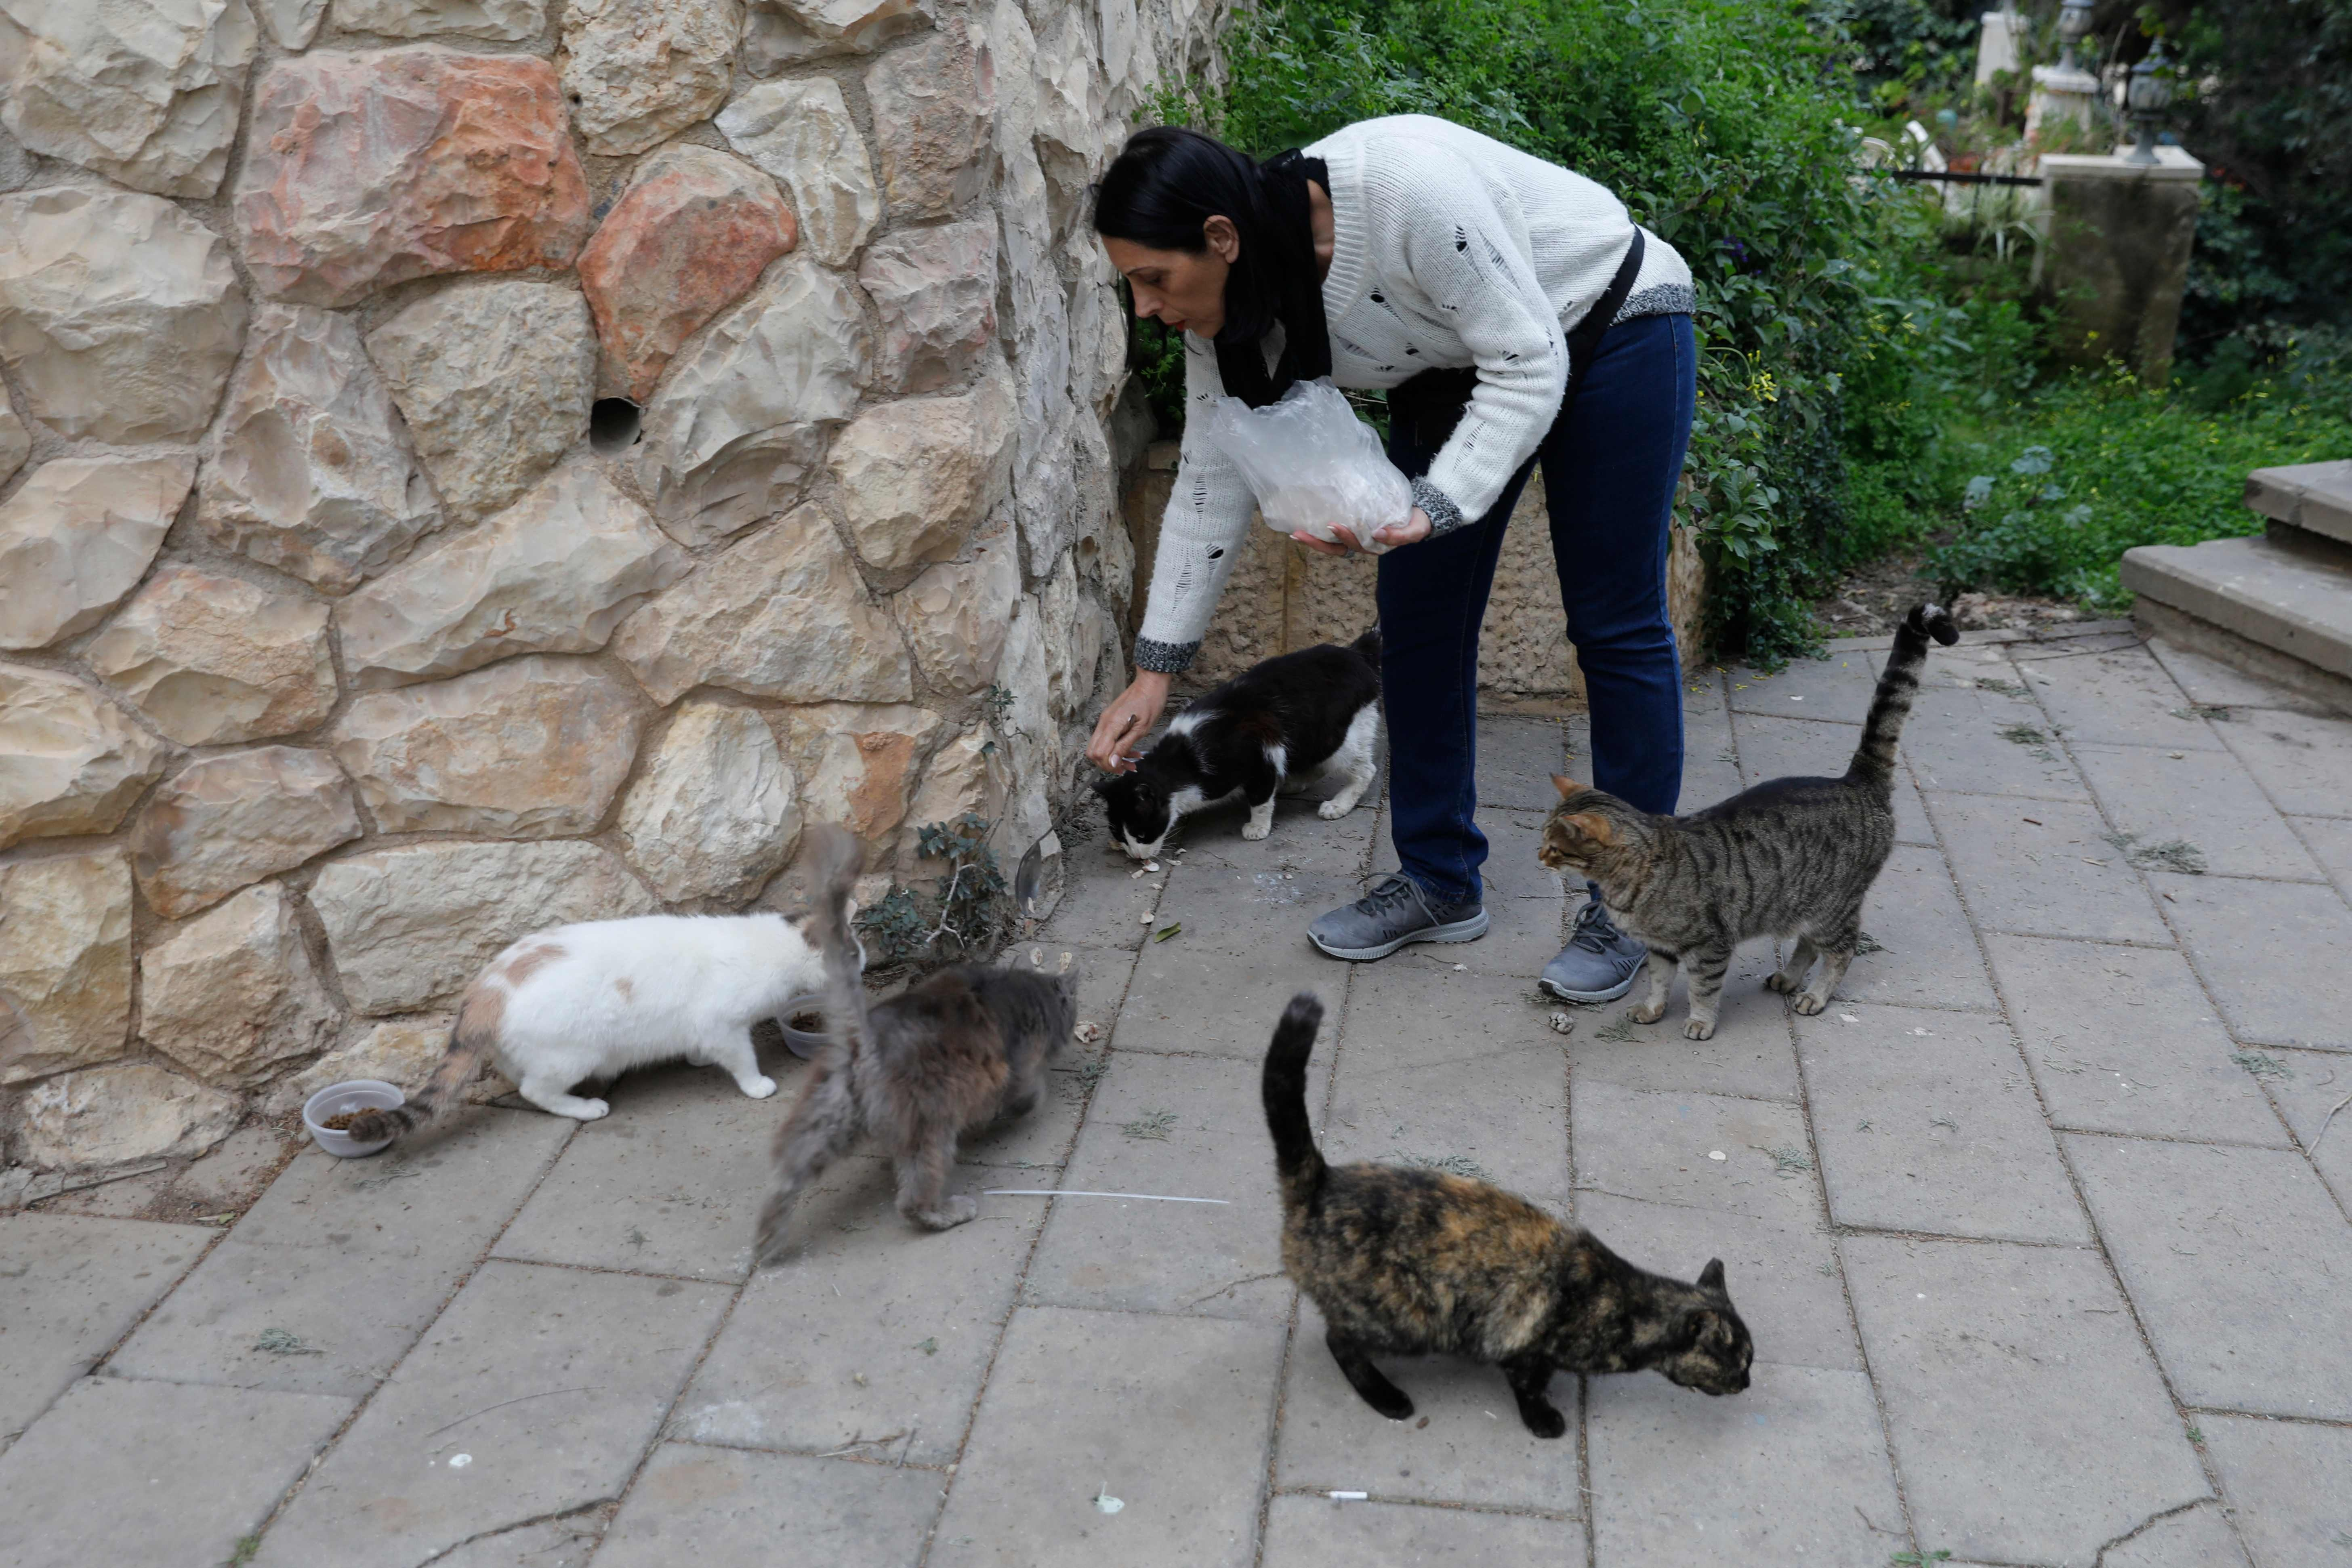cat: (1263, 996, 1755, 1444), (1536, 605, 1960, 1041), (747, 828, 1078, 1272), (353, 910, 821, 1141), (1090, 628, 1388, 864)
